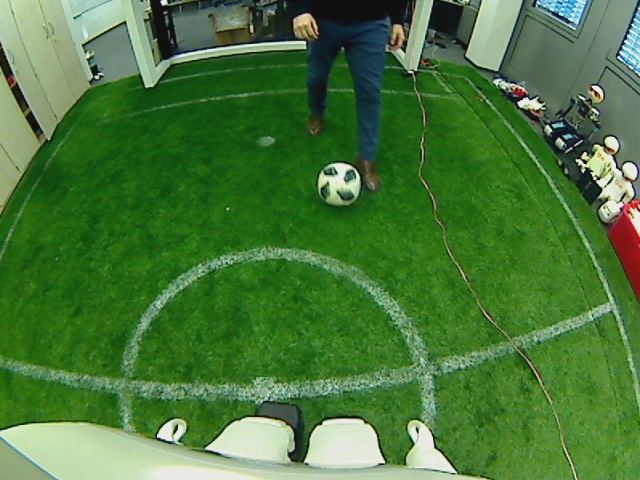ball: (315, 160, 362, 206)
